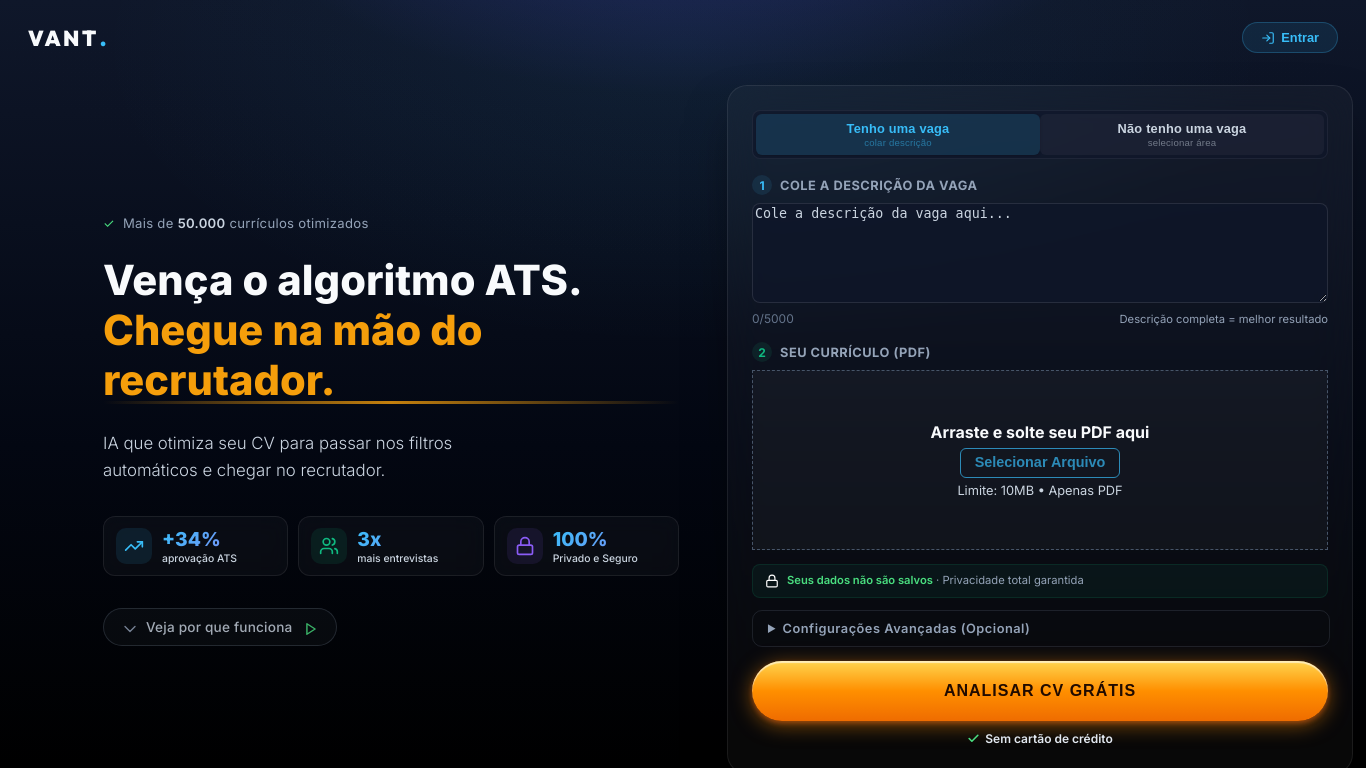
Test case: Fluxo Principal - Vant › Deve abrir modal de autenticação
This screenshot has width=1366, height=768.
Click the button with test id "login-button" at (1290, 38), box [1242,22,1338,53]
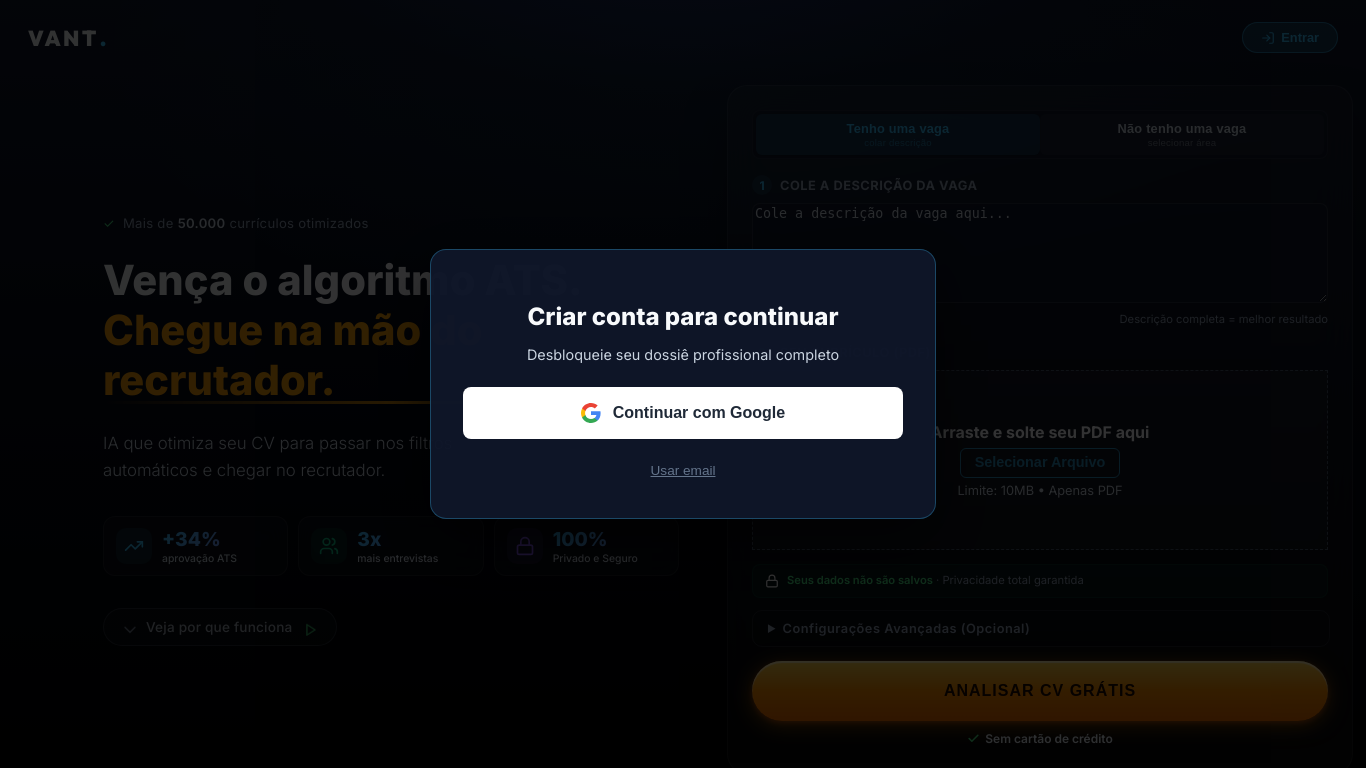
Now the element with test id "auth-modal" is shown
Now the heading with test id "auth-title" reads "Criar conta para continuar", box [528,302,839,331]
